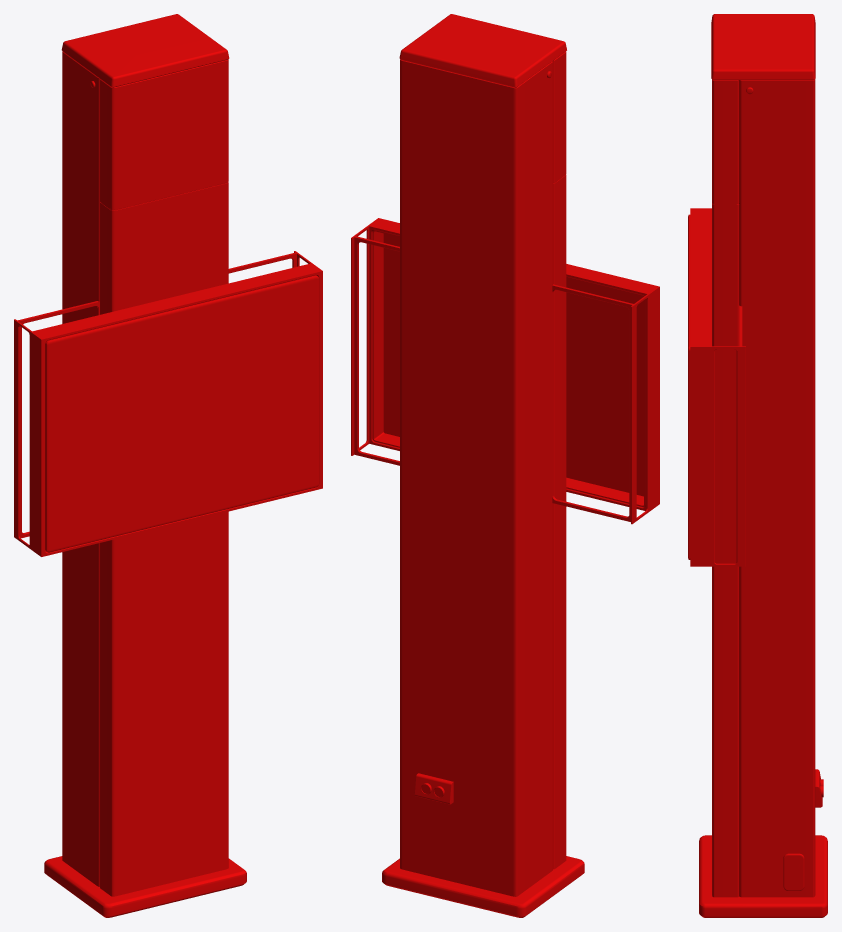
File: Equipment_11.fbx
3 views of the same model, side by side, from view 1: azimuth 30°, elevation 25°; view 2: azimuth 150°, elevation 25°; view 3: azimuth 270°, elevation 25° (orthographic).
Parts seen in each view (by area): view 1: polySurface26; view 2: polySurface26; view 3: polySurface26.
Part boxes in pixels (left/top/right/bottom): polySurface26: left=14, top=14, right=322, bottom=917; polySurface26: left=351, top=14, right=659, bottom=917; polySurface26: left=688, top=14, right=827, bottom=917.
Bounding box in the file's own units: 90.66 × 257 × 38.64.
